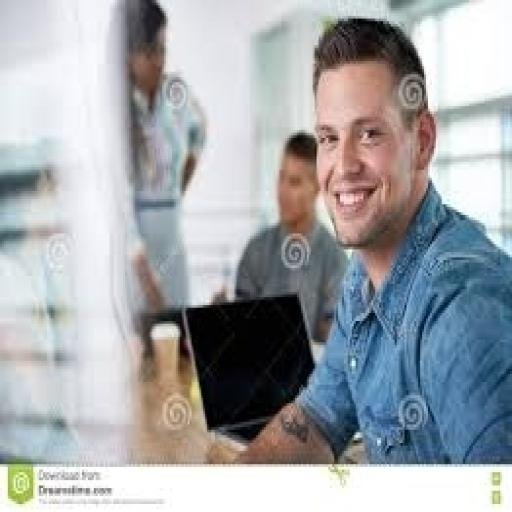using_laptop: (180, 289, 320, 451)
